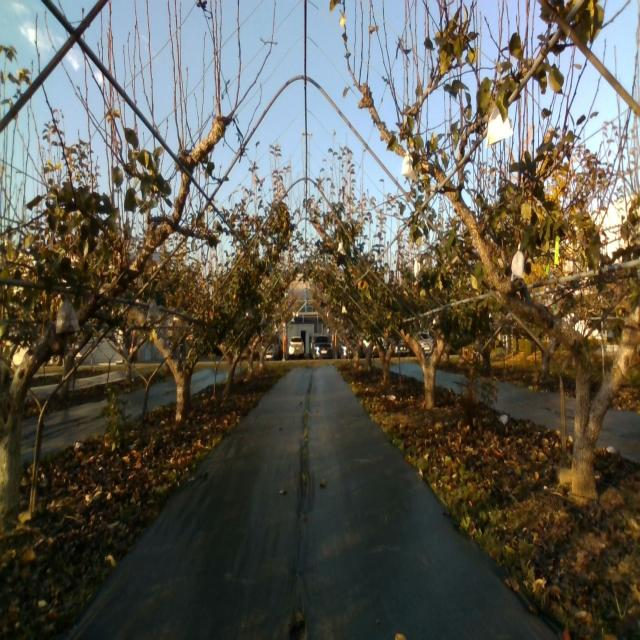pearbags: (487, 105, 514, 147), (56, 299, 80, 333), (510, 243, 525, 284), (401, 149, 414, 178), (147, 300, 159, 320), (414, 258, 424, 280)
